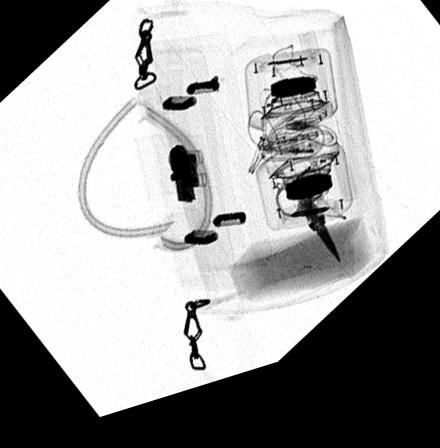Scissors: (274, 192, 342, 287)
